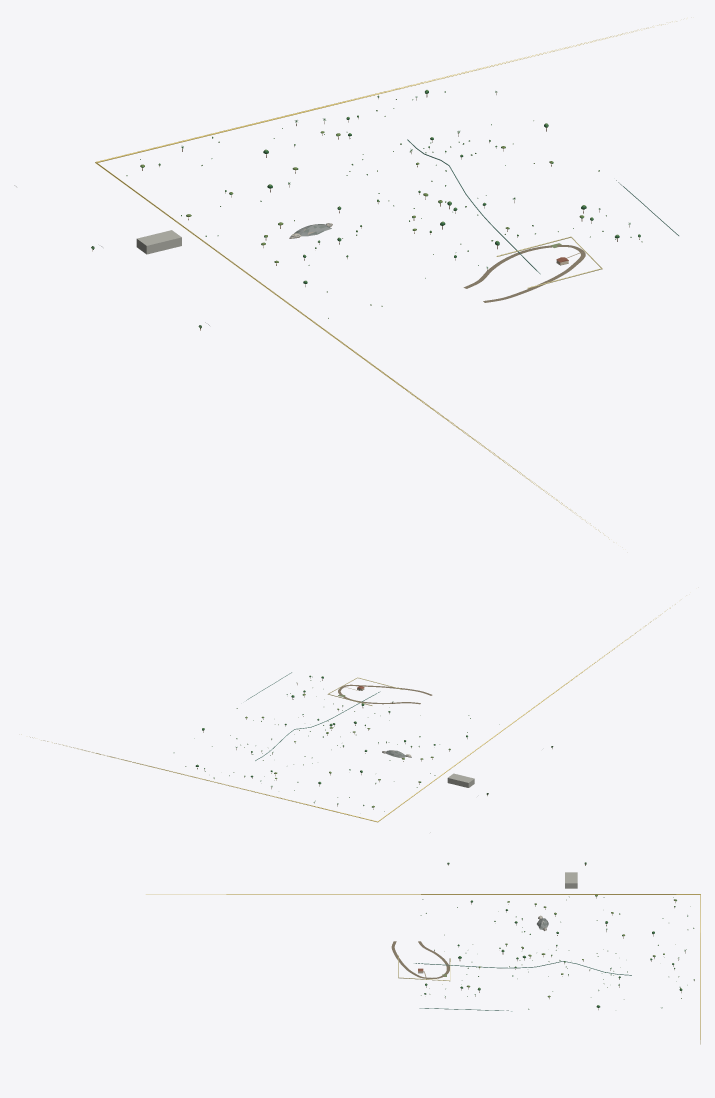
File: cell_5_-3_full.gltf
3 renders of one model, top to bottom at view 1: azimuth 30°, elevation 25°; view 2: azimuth 150°, elevation 25°; view 3: azimuth 270°, elevation 25°, orthographic. The views are drawn at different scales.
Parts seen in each view (by area): view 1: EKITI_RESERVE_BOUNDARY_REVIEW_V1; view 2: EKITI_RESERVE_BOUNDARY_REVIEW_V1; view 3: EKITI_RESERVE_BOUNDARY_REVIEW_V1, EKITI_SHRUB_0204, EKITI_DRAINAGE_VALLEY_GUIDE_A.
Part boxes in pixels (<box>): EKITI_RESERVE_BOUNDARY_REVIEW_V1: <box>95,21,676,539</box>; EKITI_RESERVE_BOUNDARY_REVIEW_V1: <box>21,604,675,822</box>; EKITI_RESERVE_BOUNDARY_REVIEW_V1: <box>146,894,700,1044</box>; EKITI_SHRUB_0204: <box>420,894,694,1009</box>; EKITI_DRAINAGE_VALLEY_GUIDE_A: <box>414,961,631,1011</box>.
Size of the model in its own units: 752 by 24.59 by 1001.
